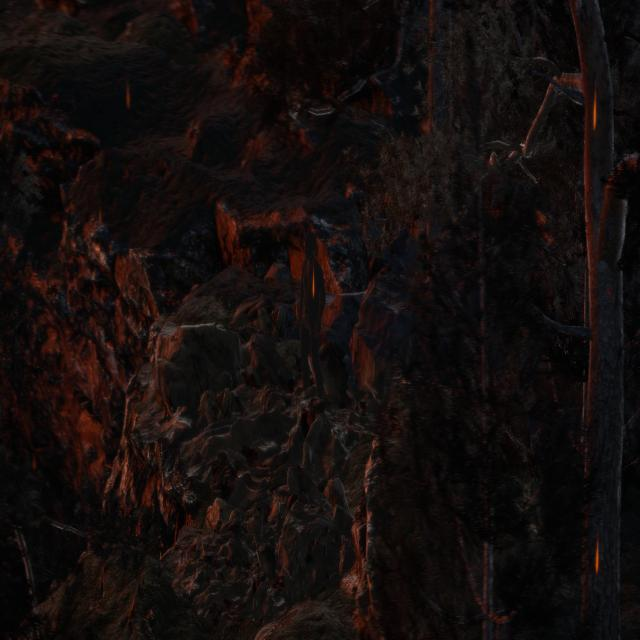Human: (290, 229, 334, 422)
